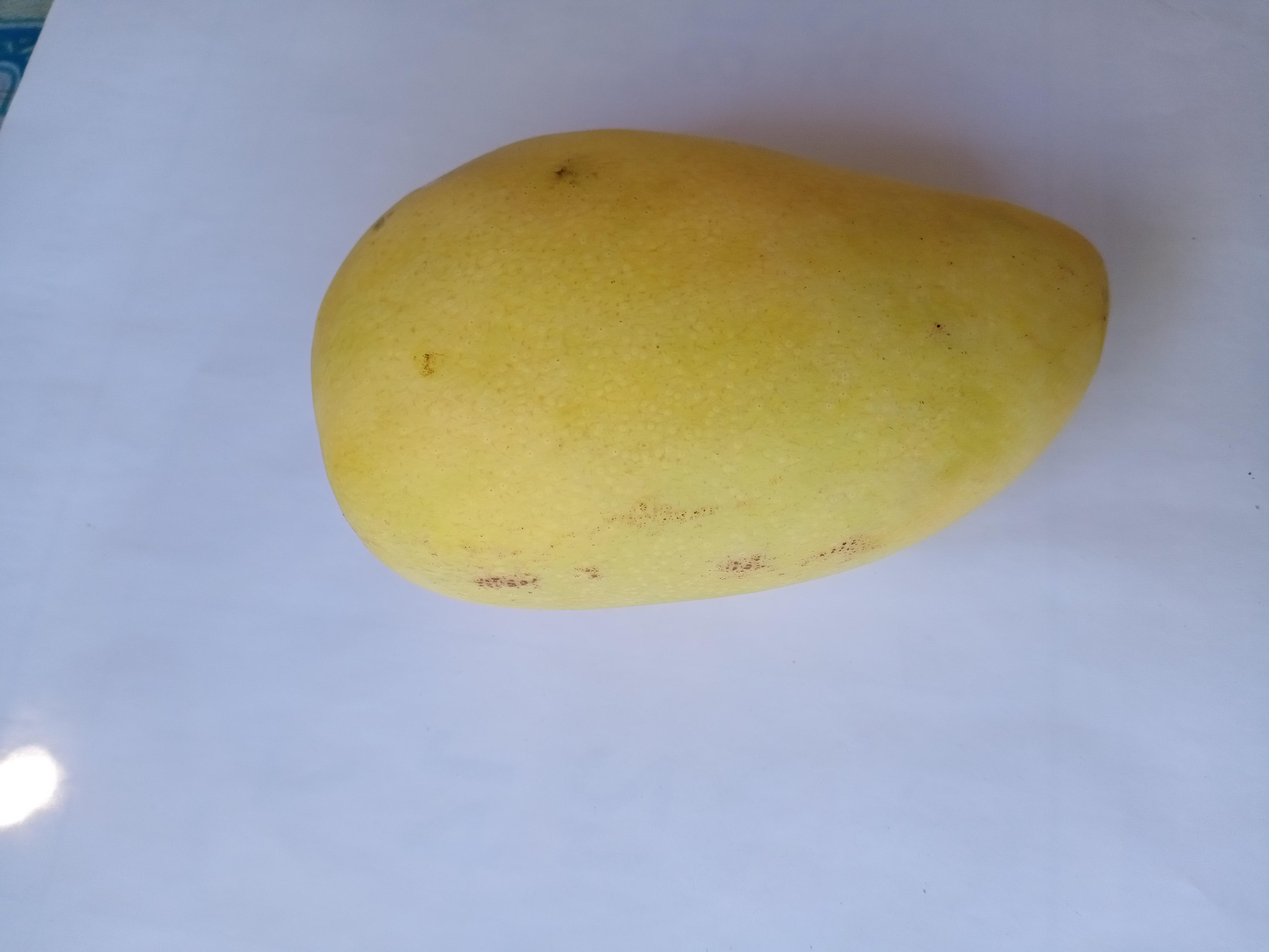Mango Ripe: (253, 91, 1148, 628)
